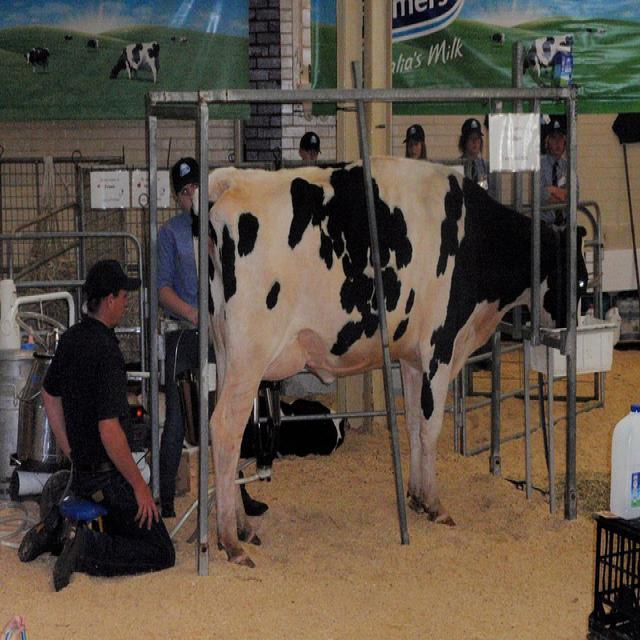cow: (189, 152, 587, 568)
